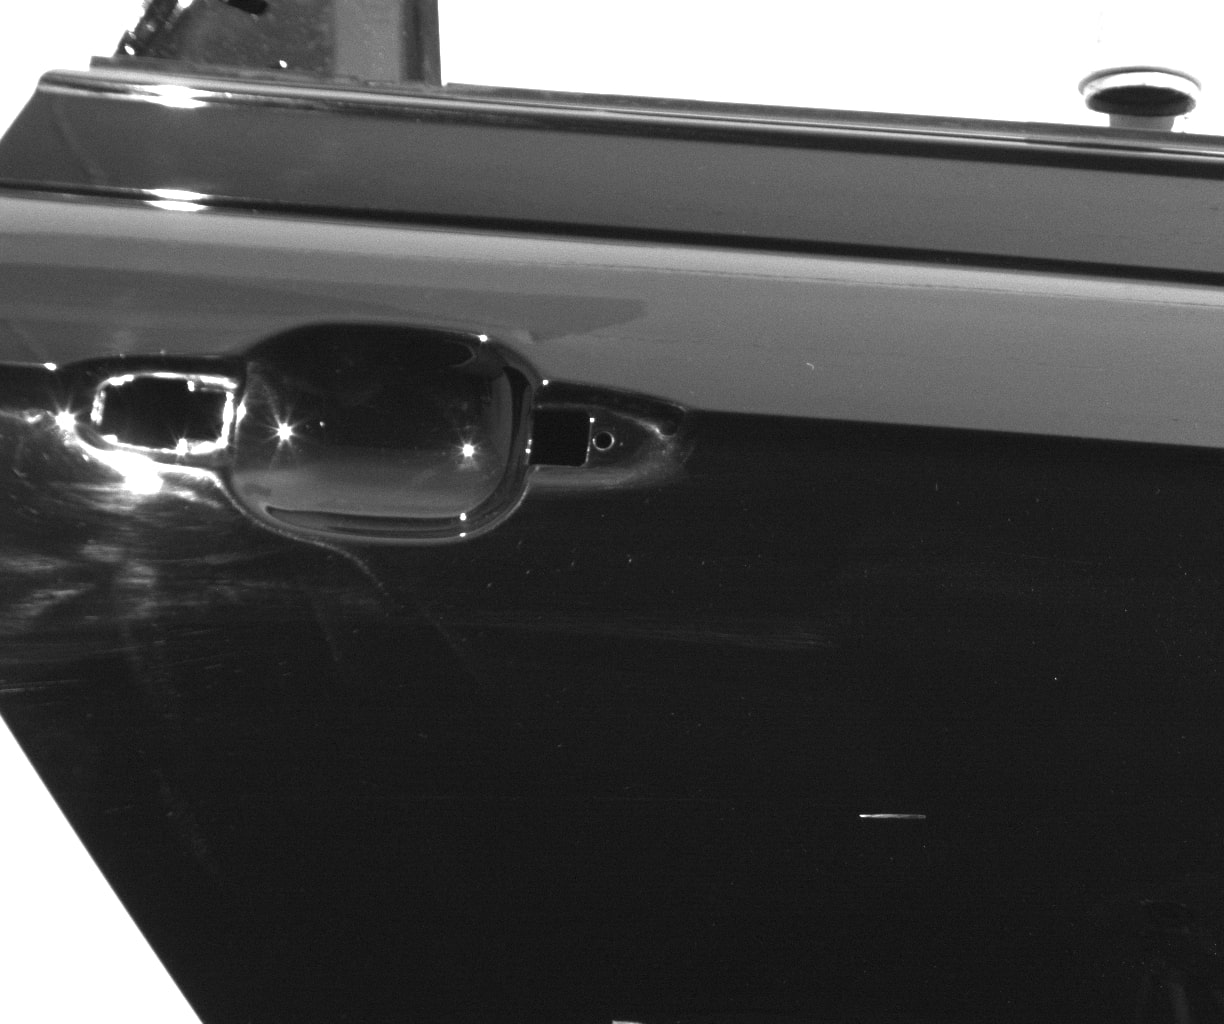scratch: (859, 812, 927, 822)
